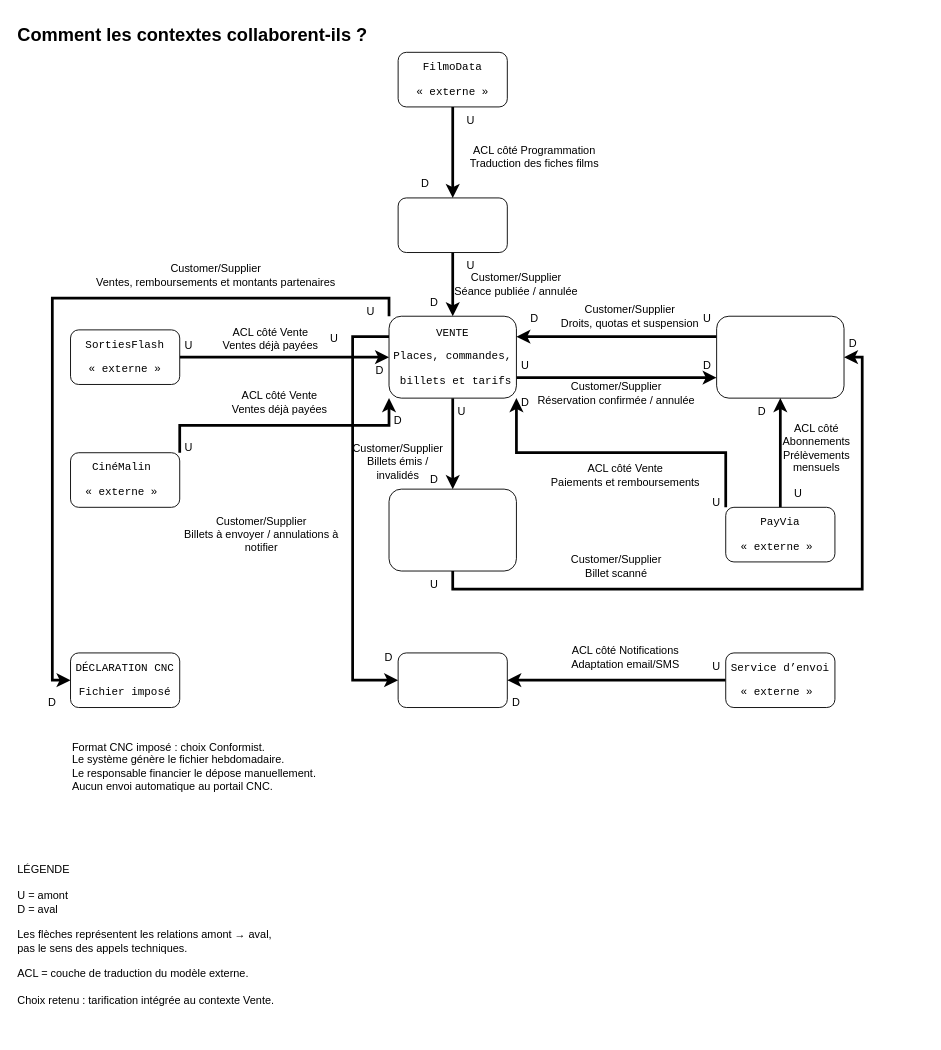
Some shapes in this 941 by 1050 pixel diagram are drawn without their labels. Each missing label, with the centre of its shape:
ABONNEMENTS Formules, quotas et suspensions: point 780,356
CONTRÔLE D’ACCÈS Validation et scan des billets: point 452,529
NOTIFICATIONS Billets et alertes: point 452,680
PROGRAMMATION Films et séances: point 452,225
